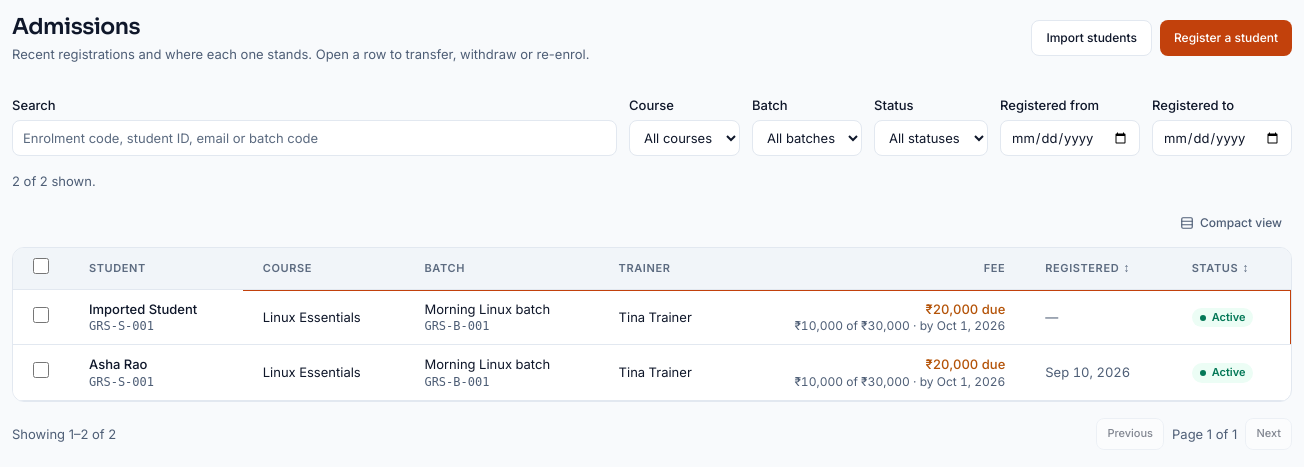
Test: AdmissionsPage › keeps an enrolment with no registration date out of a date-filtered view instead of throwing
This screenshot has width=1304, height=467.
Expected: the link "Imported Student" is shown, x1=89 y1=301 x2=197 y2=317
Step 1. Type "2026-09-01" into the date field labelled "Registered from" → (1070,138), box x1=1000 y1=120 x2=1140 y2=156
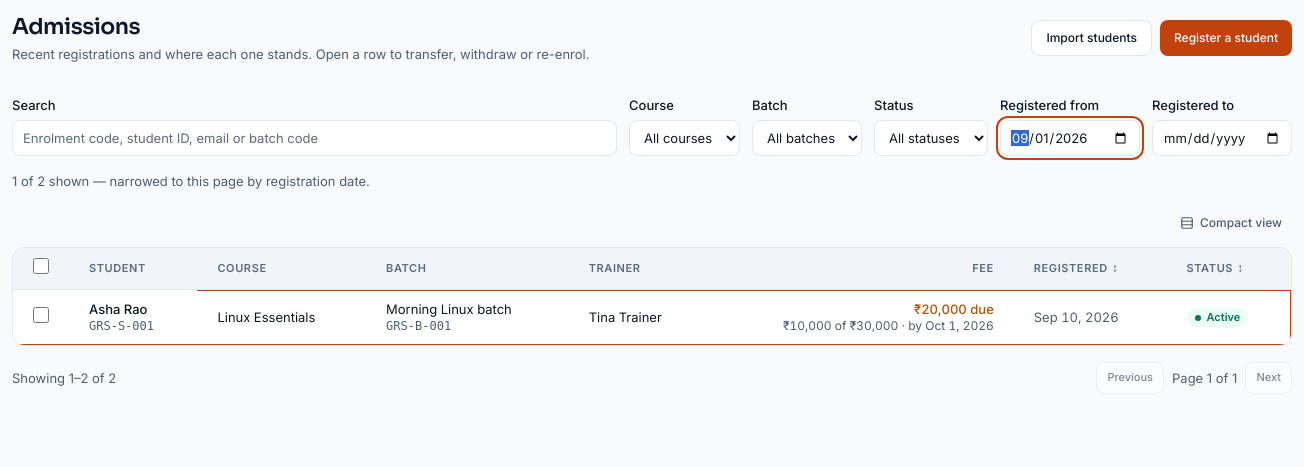
Expected: the link "Asha Rao" is shown, x1=89 y1=301 x2=148 y2=317
Expected: the link "Imported Student" is gone
